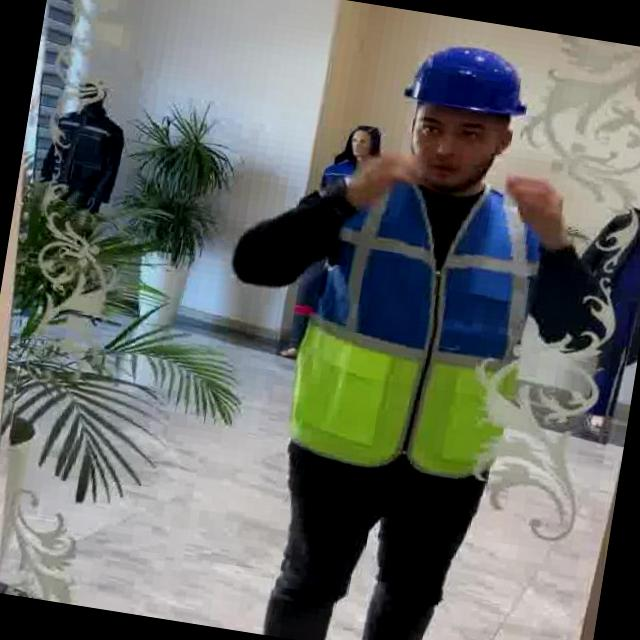helmet: (402, 39, 537, 122)
vest: (282, 157, 555, 495)
